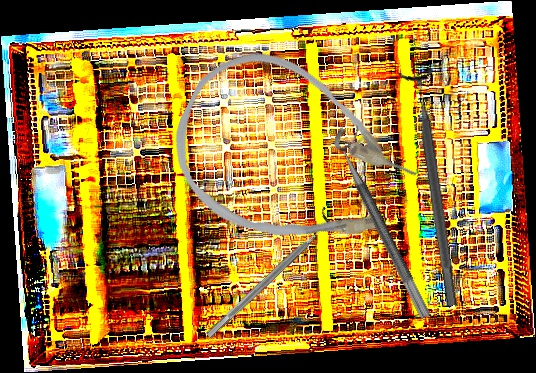Cannula: (149, 28, 437, 288)
Fixation Ring: (329, 121, 446, 320), (198, 205, 343, 347), (395, 67, 471, 309)
